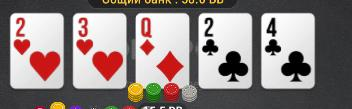2c: (199, 15, 252, 87)
2h: (11, 15, 64, 88)
3h: (75, 15, 125, 87)
4c: (263, 15, 314, 88)
Qd: (136, 15, 189, 86)
